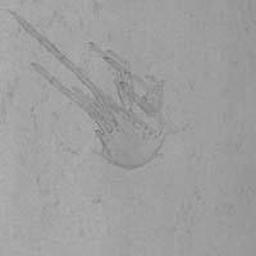Water spot: (8, 9, 180, 172)
